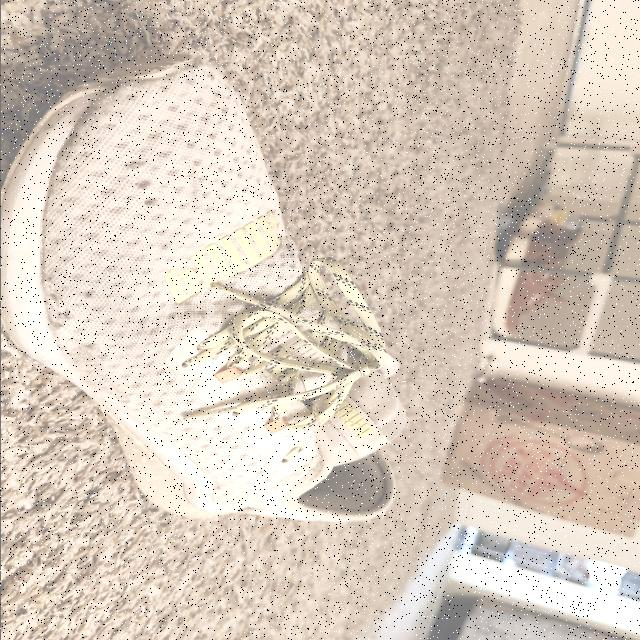white shoes: (2, 52, 394, 518)
